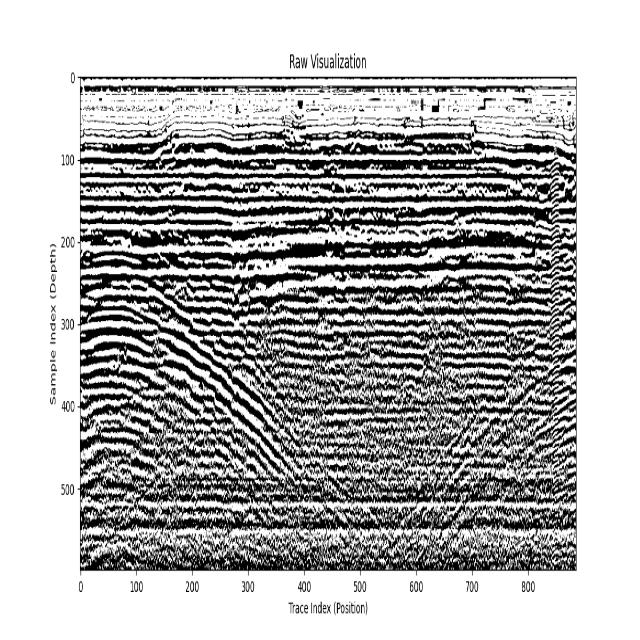anomaly: (83, 224, 284, 567), (414, 334, 576, 570)
